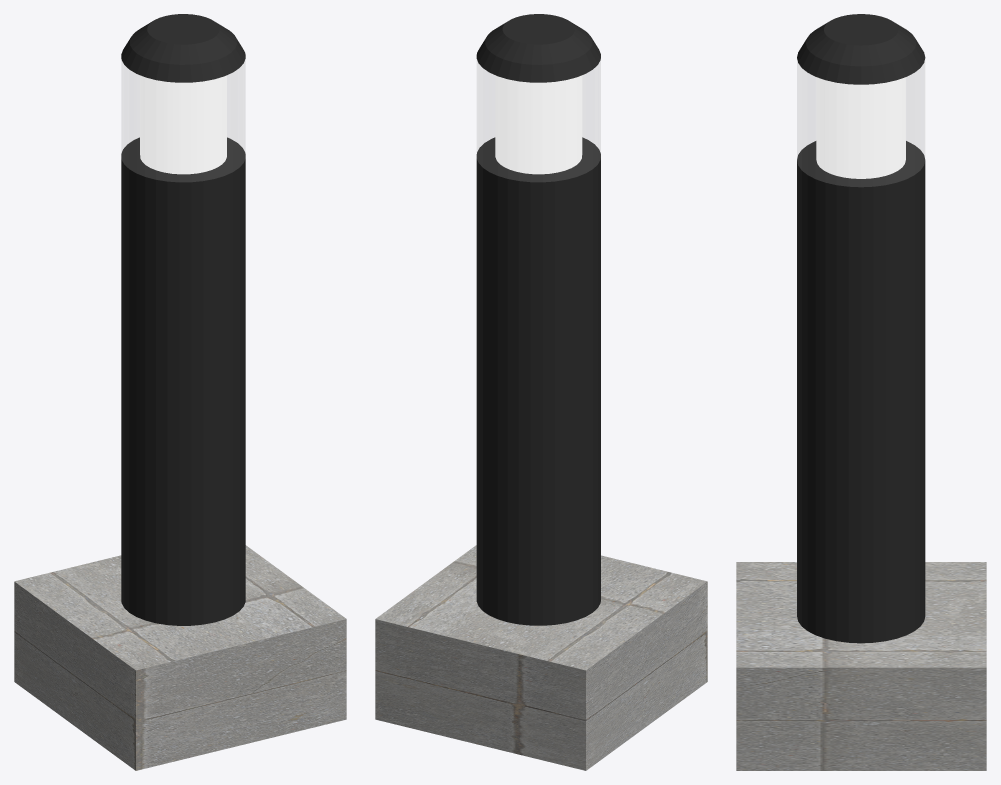
File: minifaro.glb
3 views of the same model, side by side, from view 1: azimuth 30°, elevation 25°; view 2: azimuth 150°, elevation 25°; view 3: azimuth 270°, elevation 25° (orthographic). The views are drawn at different scales.
Parts seen in each view (by area): view 1: minifaros; view 2: minifaros; view 3: minifaros.
Boxes of the visible parts, left/top/right/bottom form: minifaros: left=14, top=14, right=346, bottom=770; minifaros: left=375, top=14, right=707, bottom=770; minifaros: left=736, top=14, right=986, bottom=770.
Bounding box in the file's own units: 2.12 × 6.43 × 2.12.
4 materials, 1 textured.
